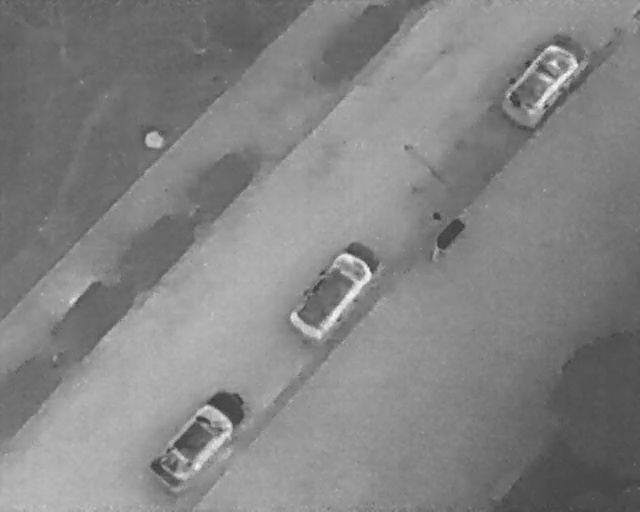Car: (142, 378, 257, 497), (279, 239, 381, 350), (496, 32, 591, 135)
